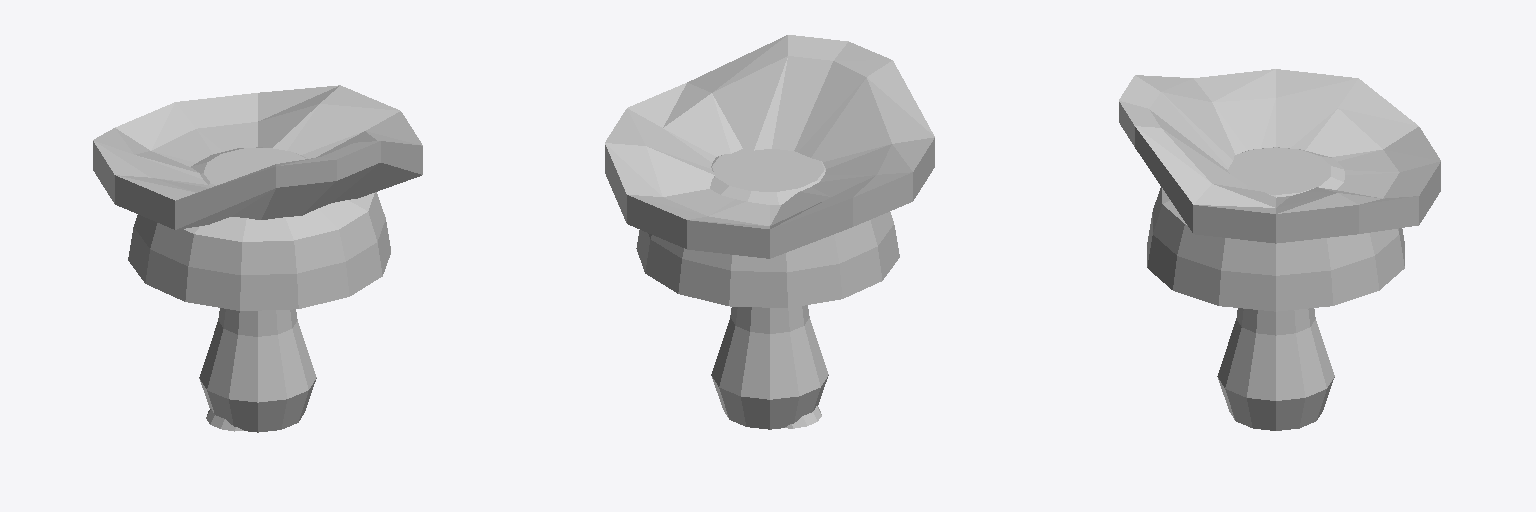
File: Mushrooms.obj
The picture shows the model from 3 angles: view 1: azimuth 30°, elevation 25°; view 2: azimuth 150°, elevation 25°; view 3: azimuth 270°, elevation 25°; orthographic projection.
Visible parts, largest first — view 1: Mushrooms Mushroom_003, Mushroom_001 Mushrooms, Mushrooms Mushroom_002; view 2: Mushrooms Mushroom_003, Mushroom_001 Mushrooms, Mushrooms Mushroom_002; view 3: Mushrooms Mushroom_003, Mushroom_001 Mushrooms, Mushrooms Mushroom_002.
Boxes of the visible parts, x1,y1,x2,y2 form: Mushrooms Mushroom_003: [93, 85, 422, 229]; Mushroom_001 Mushrooms: [128, 147, 390, 431]; Mushrooms Mushroom_002: [199, 308, 316, 432]; Mushrooms Mushroom_003: [605, 35, 934, 258]; Mushroom_001 Mushrooms: [636, 149, 899, 428]; Mushrooms Mushroom_002: [711, 305, 828, 429]; Mushrooms Mushroom_003: [1119, 69, 1440, 243]; Mushroom_001 Mushrooms: [1147, 147, 1404, 311]; Mushrooms Mushroom_002: [1217, 308, 1334, 430].
Size of the model in its own units: 15.98 by 16.59 by 15.6.